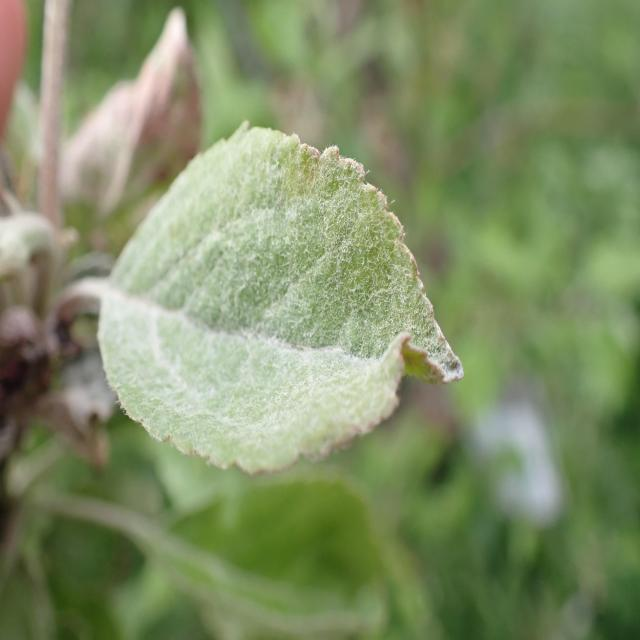Powdery_mildew: (105, 120, 462, 482)
